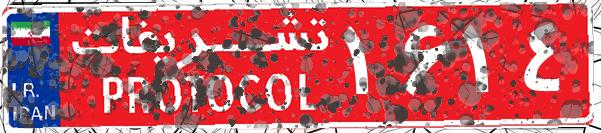1: (340, 20, 400, 115), (460, 20, 520, 115)
4: (520, 20, 580, 115)
6: (400, 20, 460, 115)
تشریفات: (60, 8, 340, 125)
